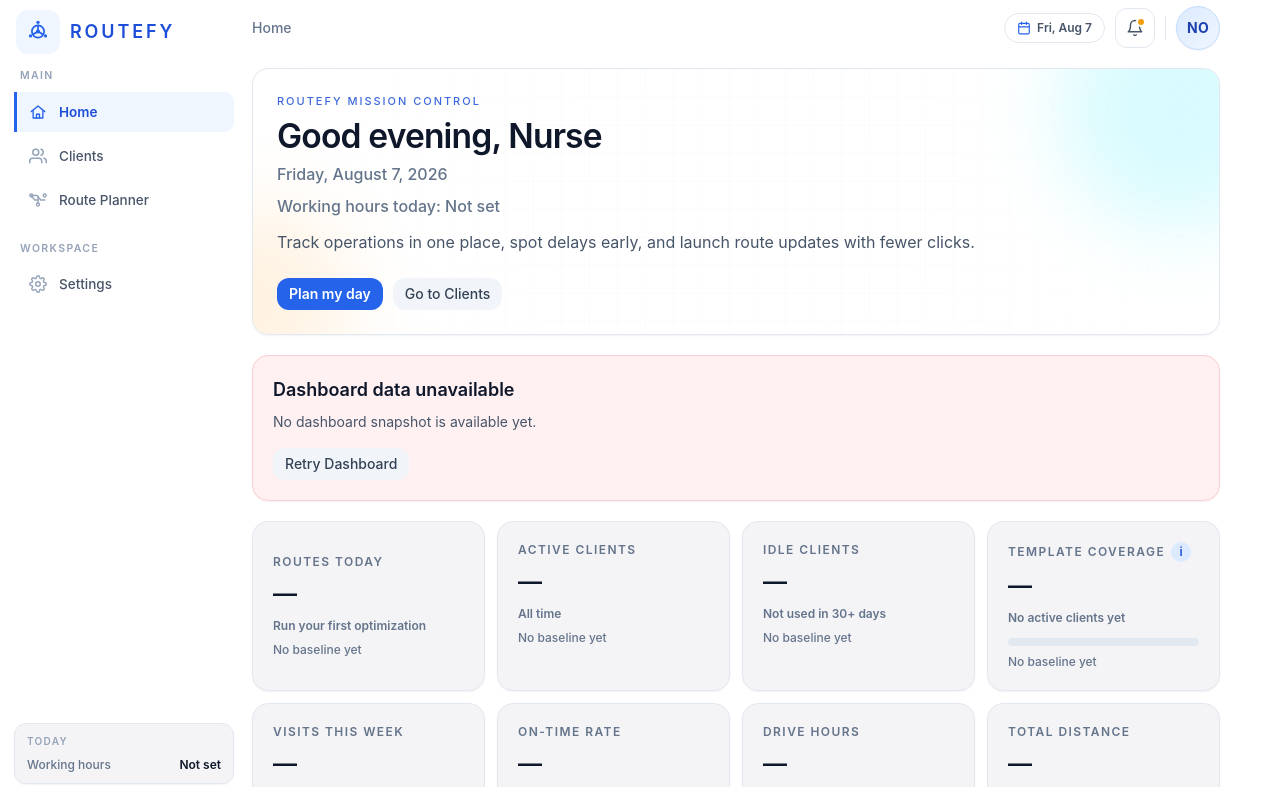
it: App routing › shows dashboard error state and supports retry on the home page
The image size is (1280, 787).
Expected: the heading "Dashboard data unavailable" is shown, x1=273 y1=378 x2=514 y2=400
What coordinates should you click on to do the following:
click the button "Retry Dashboard"
I would click on:
 (341, 464)
Its box is x1=273 y1=448 x2=409 y2=480.
(page scrolled)
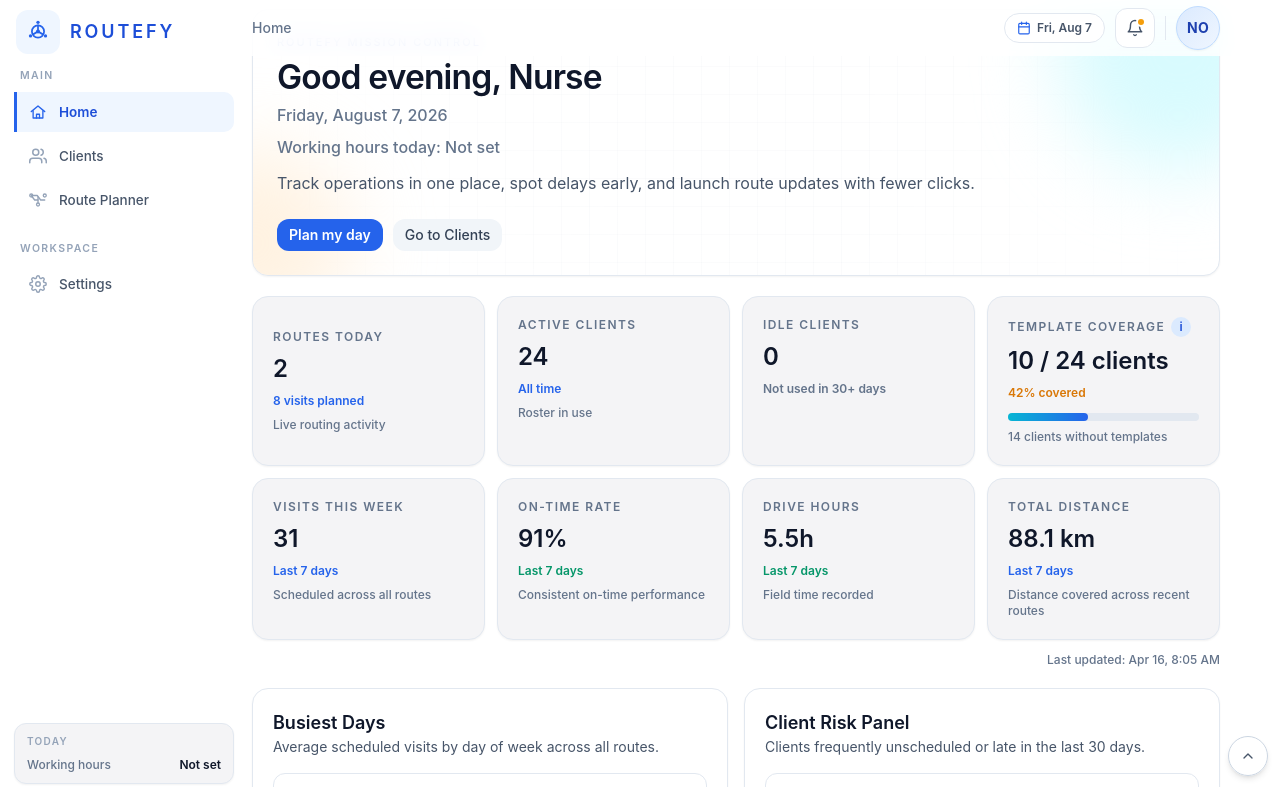
Result: the heading "Dashboard data unavailable" is gone
Result: the text "8 visits planned" is shown at x1=273 y1=392 x2=364 y2=408
